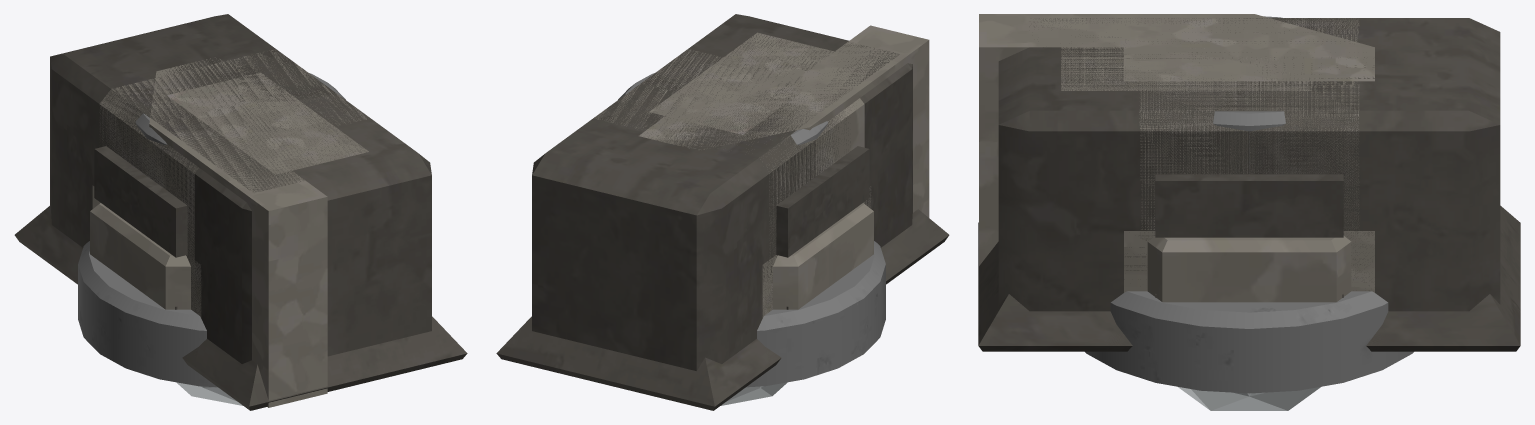
Rendered from Part - Kit simple-BAprq-S9.glb.
3 renders of one model, left to right at view 1: azimuth 30°, elevation 25°; view 2: azimuth 150°, elevation 25°; view 3: azimuth 270°, elevation 25°, orthographic. The views are drawn at different scales.
Parts seen in each view (by area): view 1: Cube.001, Cube.005, Cube.003, Cube.006, Cylinder.003, Cube, Cylinder.005, Cube.004, Icosphere, Cube.008, Cylinder; view 2: Cube.001, Cube.005, Cube.003, Cylinder.003, Cube.006, Cylinder.005, Cube.004, Cube, Cube.008, Icosphere, Cylinder; view 3: Cube.001, Cube.005, Cylinder.003, Cube.003, Cylinder.005, Cube.004, Cube, Cube.006, Cube.008, Icosphere, Cylinder, Cube.002.
Boxes of the visible parts, box(x1,y1,x2,y2) form: Cube.001: box(50, 14, 431, 363); Cube.005: box(149, 57, 327, 407); Cube.003: box(14, 205, 467, 410); Cube.006: box(167, 72, 368, 174); Cylinder.003: box(78, 241, 217, 387); Cube: box(99, 49, 370, 311); Cylinder.005: box(90, 203, 190, 309); Cube.004: box(94, 146, 187, 309); Icosphere: box(176, 382, 242, 405); Cube.008: box(92, 185, 201, 317); Cylinder: box(135, 73, 345, 144); Cube.001: box(532, 14, 912, 371); Cube.005: box(639, 25, 929, 217); Cube.003: box(496, 209, 949, 410); Cylinder.003: box(746, 241, 885, 387); Cube.006: box(649, 32, 850, 134); Cylinder.005: box(773, 203, 873, 309); Cube.004: box(776, 146, 869, 309); Cube: box(594, 49, 864, 259); Cube.008: box(762, 186, 870, 317); Icosphere: box(721, 382, 787, 405); Cylinder: box(618, 73, 828, 144); Cube.001: box(998, 18, 1500, 311); Cube.005: box(979, 14, 1374, 265); Cylinder.003: box(1085, 291, 1413, 393); Cube.003: box(978, 205, 1520, 351); Cylinder.005: box(1147, 236, 1351, 302); Cube.004: box(1155, 174, 1343, 297); Cube: box(1139, 18, 1359, 287); Cube.006: box(1061, 43, 1312, 90); Cube.008: box(1124, 231, 1374, 292); Icosphere: box(1177, 386, 1321, 410); Cylinder: box(1213, 16, 1285, 173); Cube.002: box(1104, 325, 1394, 351).
Bounding box in the file's own units: 1.5 × 1.5 × 2.16.
Materials: 5 (5 with a texture image).
